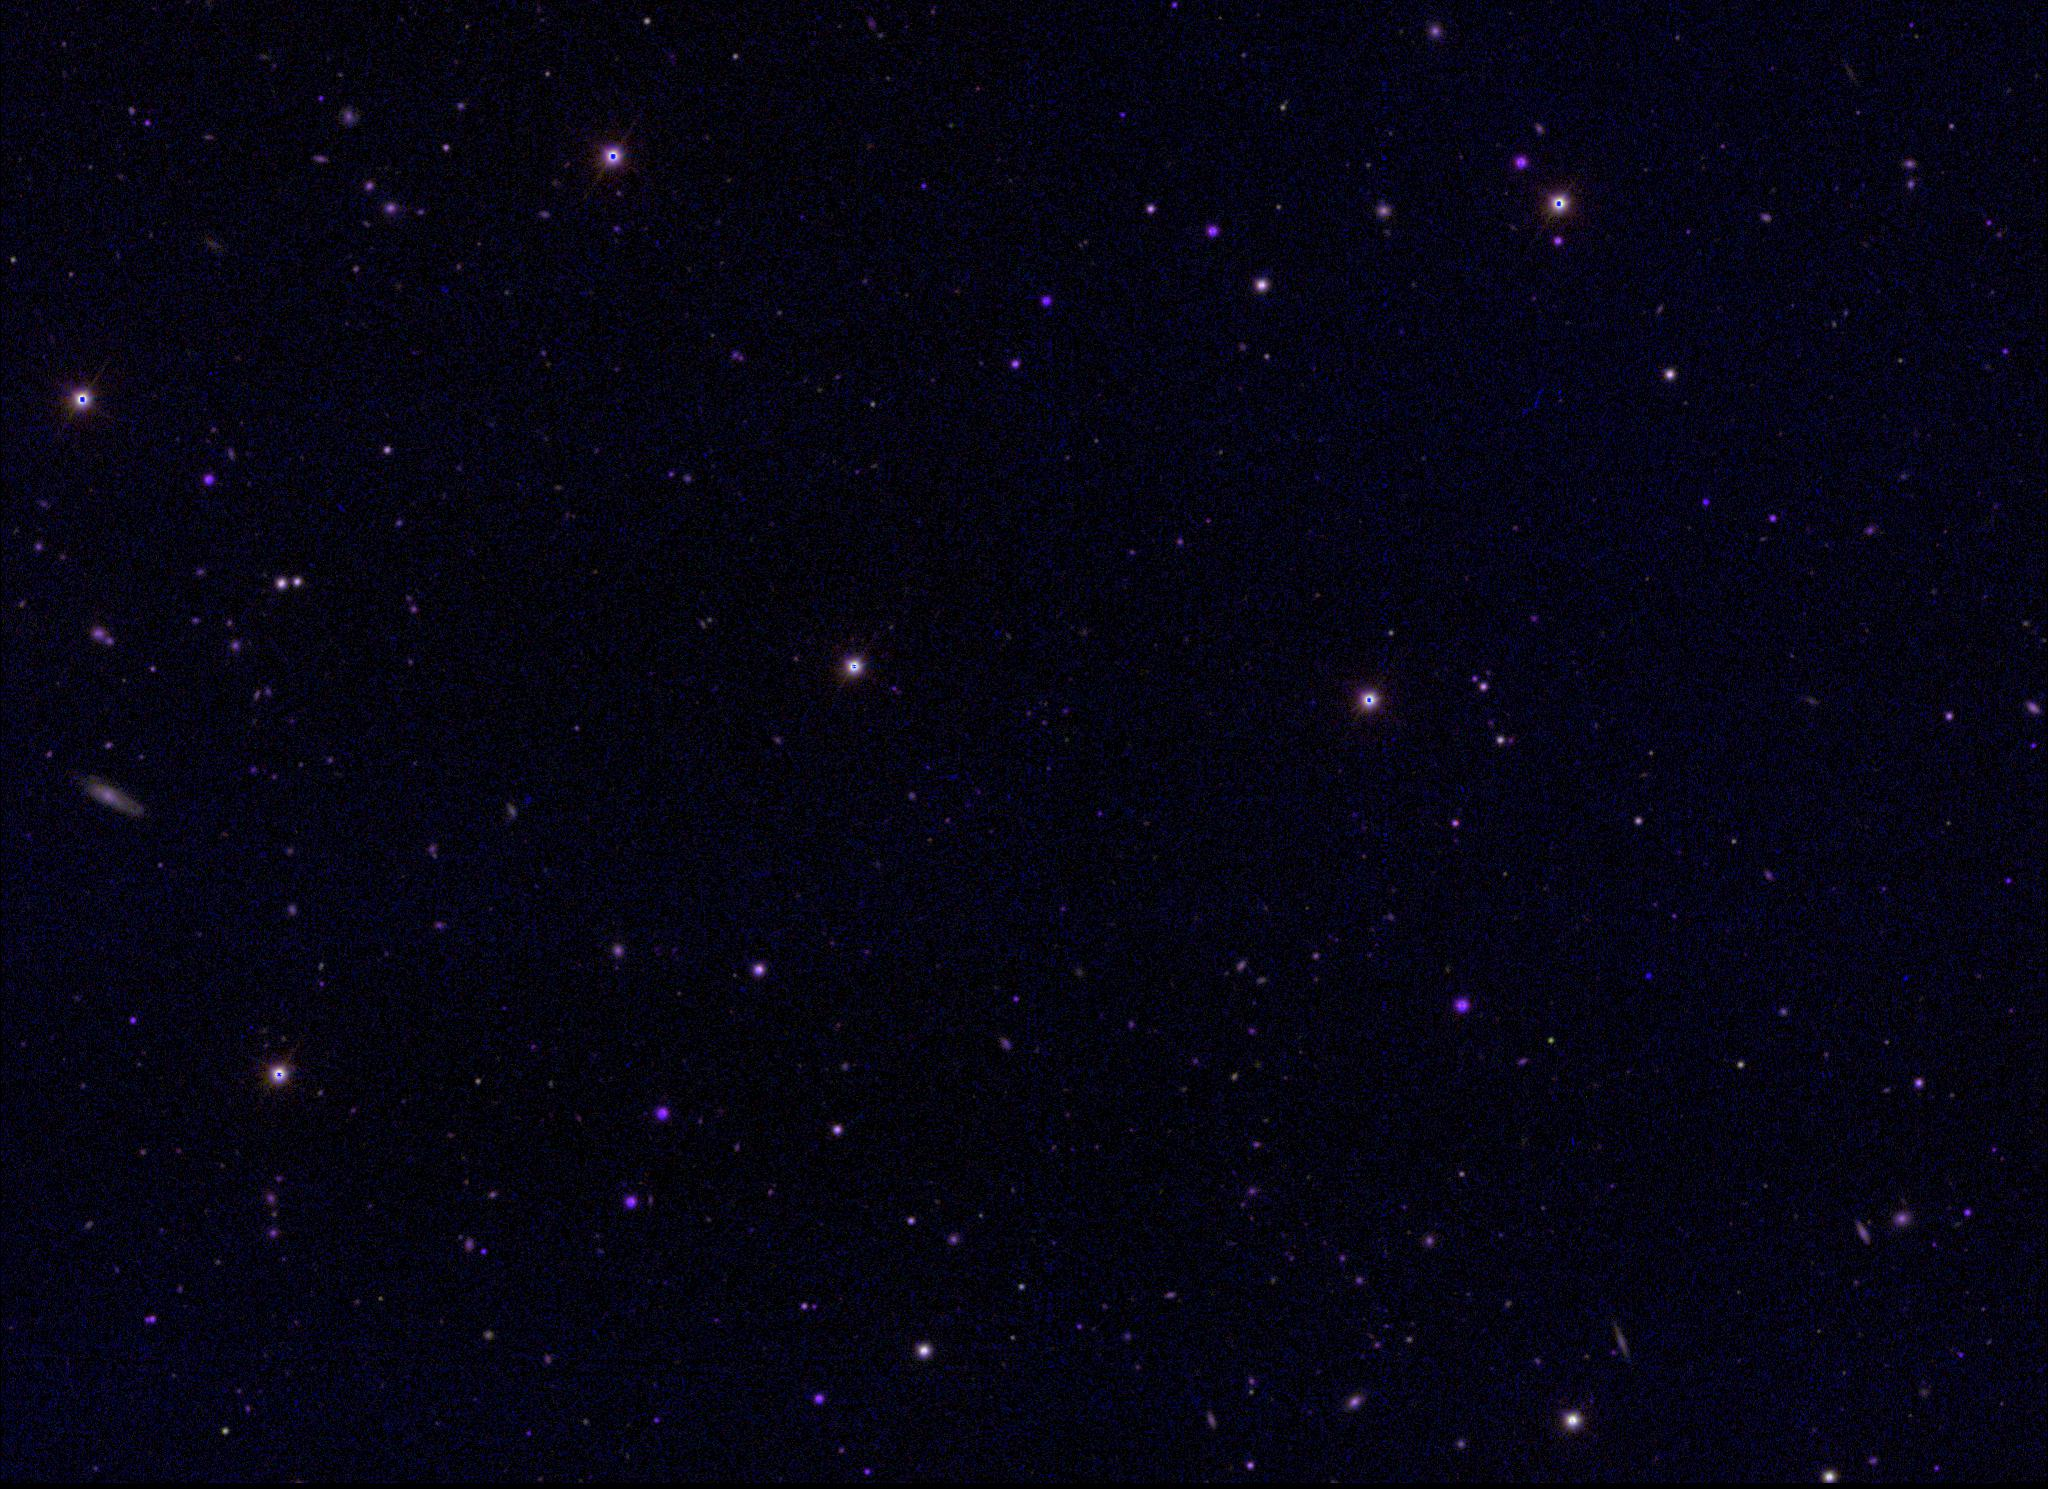L: (1639, 970, 1654, 985)
